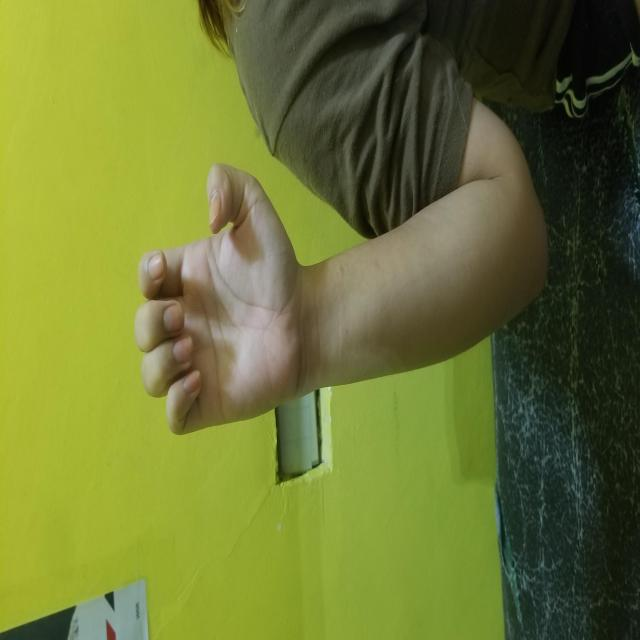E: (203, 134, 476, 299)
